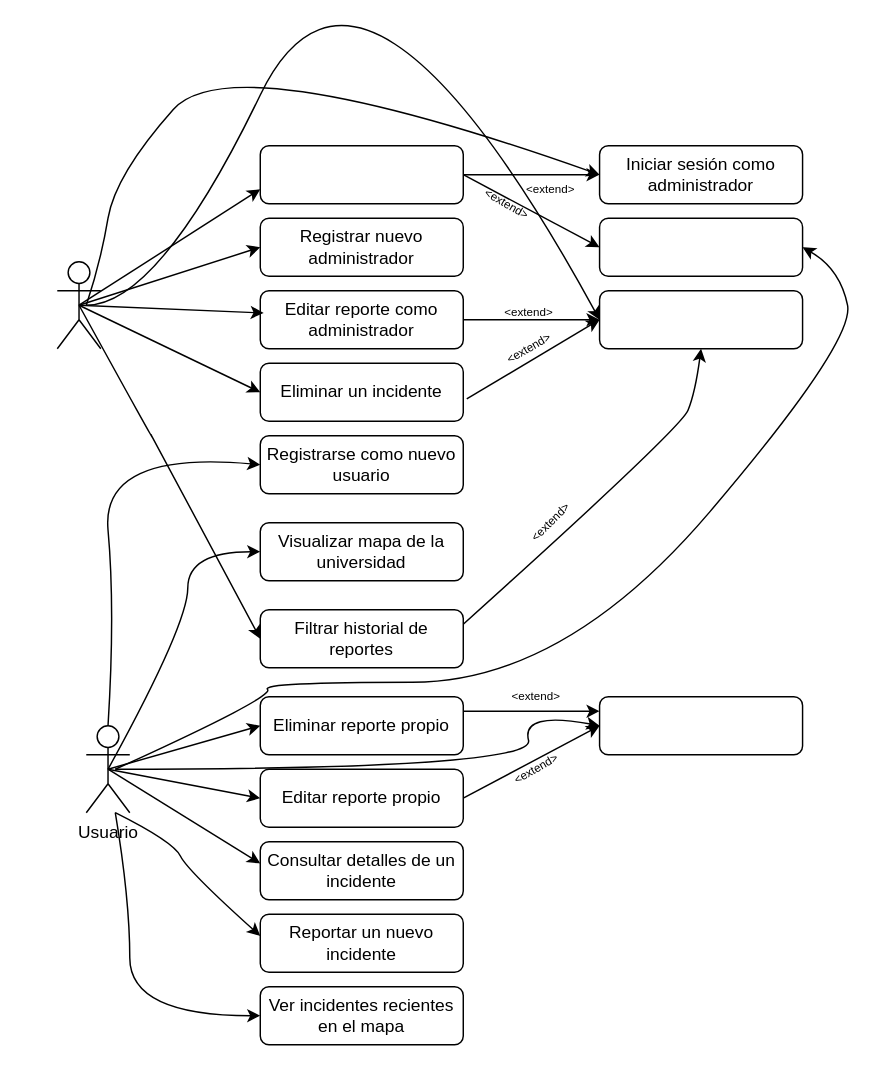
Some shapes in this 874 by 1070 pixel diagram are drawn without their labels. Each missing label, with the centre of its shape:
Administrador: (78,304)
Consultar historial de reportes propios: (700,725)
Diferenciar permisos por rol: (361,174)
Iniciar sesión como usuario: (700,246)
Ver historial completo de incidentes: (700,319)
